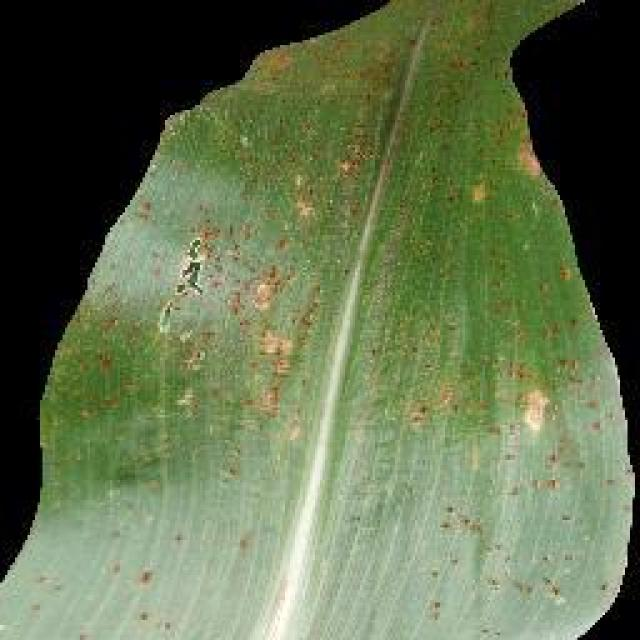Corn Common Rust: (124, 80, 478, 523)
